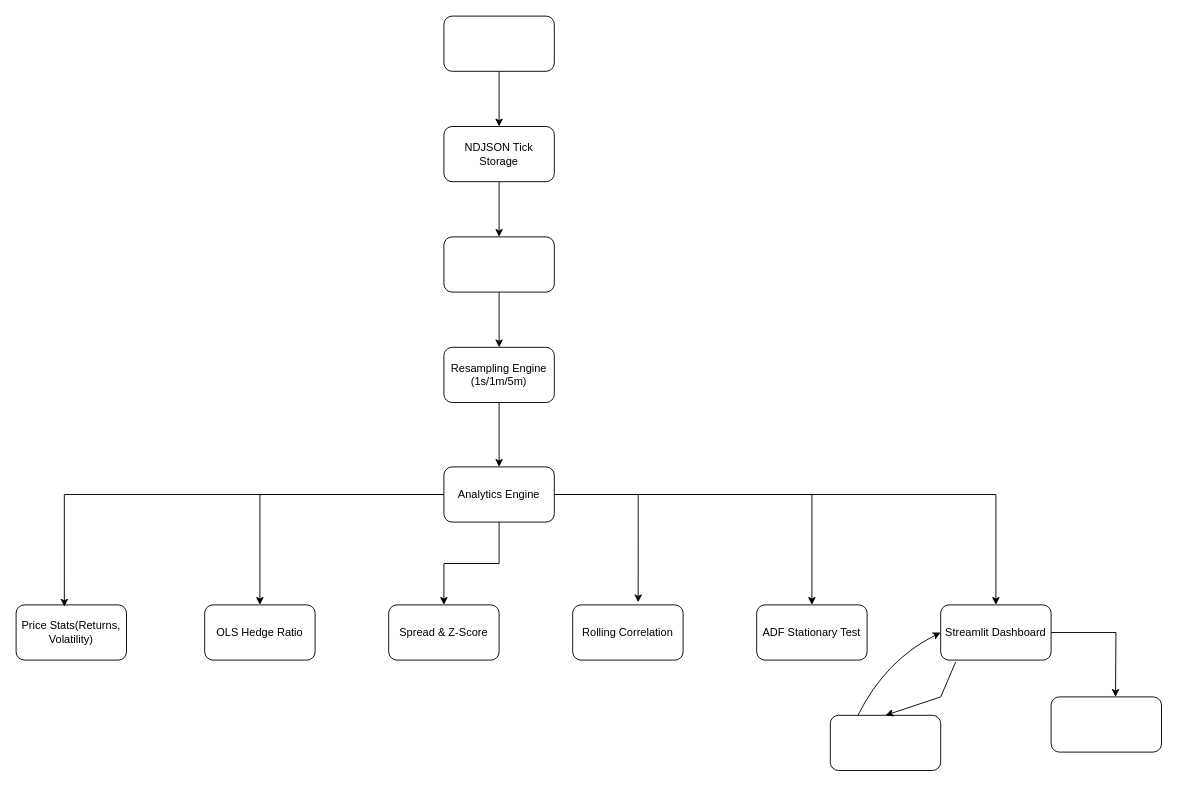
Image size: 1178x787. Some labels were removed from this diagram. The shapes that lost their labels are listed below. From the top down, each one's centre as x and y in pixels, then its label:
point (498, 43): Binance Features Websocket(HTML Tool)
point (498, 264): Ingestion Layer(Python)
point (885, 742): Alerts Engine(Z-Score Thresholds )
point (1106, 724): Data Export(CSV)
